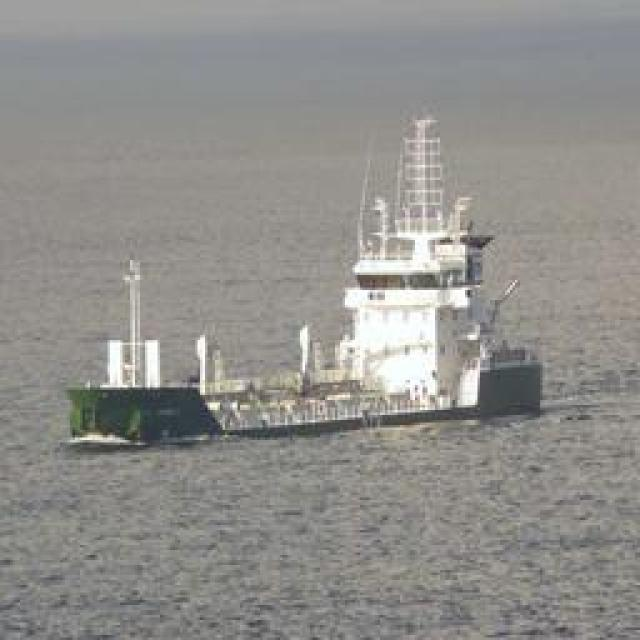CIV_Ship: (228, 106, 540, 434)
